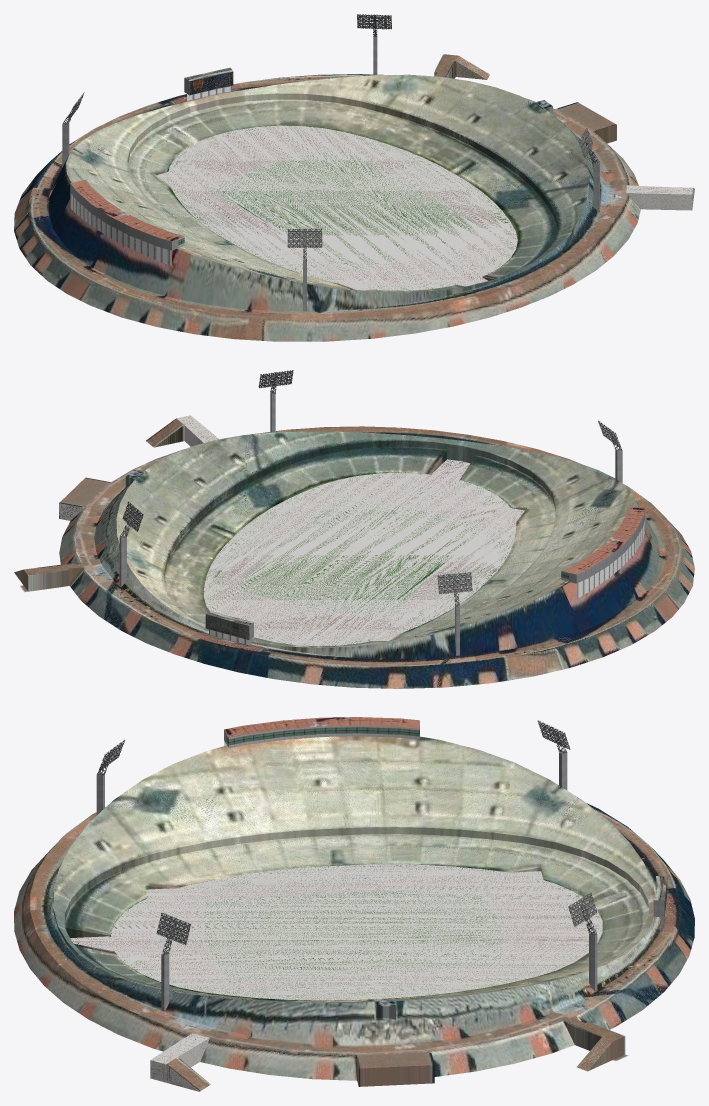
Rendered from Olimpico.dae.
3 views of the same model, one above another, from view 1: azimuth 30°, elevation 25°; view 2: azimuth 150°, elevation 25°; view 3: azimuth 270°, elevation 25° (orthographic). The views are drawn at different scales.
Visible parts, largest first — view 1: ID3, ID21, ID166, ID53, ID362, ID254, ID74, ID262, ID348, ID212, ID134; view 2: ID3, ID21, ID166, ID53, ID362, ID254, ID348, ID74, ID262, ID241, ID292; view 3: ID3, ID21, ID166, ID53, ID362, ID61, ID348, ID254, ID190, ID95, ID284.
Boxes of the visible parts, x1,y1,x2,y2 form: ID3: (66,74,589,292); ID21: (157,125,517,290); ID166: (14,74,640,341); ID53: (48,120,606,311); ID362: (626,185,694,210); ID254: (70,179,183,241); ID74: (75,200,171,265); ID262: (70,183,178,250); ID348: (434,54,489,79); ID212: (189,71,233,95); ID134: (287,228,322,262); ID3: (116,431,637,647); ID21: (204,459,524,646); ID166: (59,426,694,688); ID53: (94,480,659,658); ID362: (146,415,218,447); ID254: (562,506,644,574); ID348: (14,562,82,592); ID74: (588,519,644,591); ID262: (569,510,644,583); ID241: (205,614,249,639); ID292: (437,572,472,607); ID3: (53,736,654,1003); ID21: (70,864,602,1000); ID166: (14,803,694,1080); ID53: (53,891,655,1045); ID362: (150,1033,210,1091); ID61: (226,725,419,748); ID348: (564,1017,628,1071); ID254: (224,717,419,737); ID190: (358,1065,434,1086); ID95: (156,912,190,955); ID284: (568,892,597,935).
Bounding box in the file's own units: 1181 × 178 × 1043.
10 materials, 9 textured.
